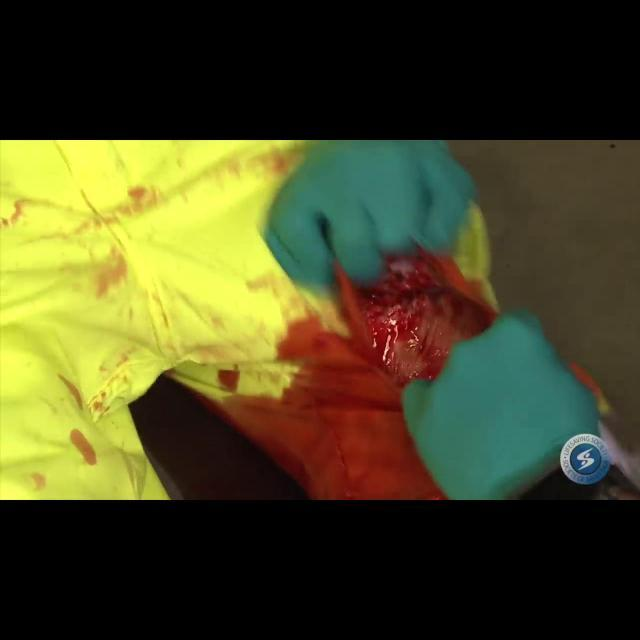blood: (219, 248, 498, 499), (200, 316, 446, 499), (70, 430, 96, 465), (58, 374, 82, 409), (218, 370, 239, 392), (127, 186, 146, 201)
